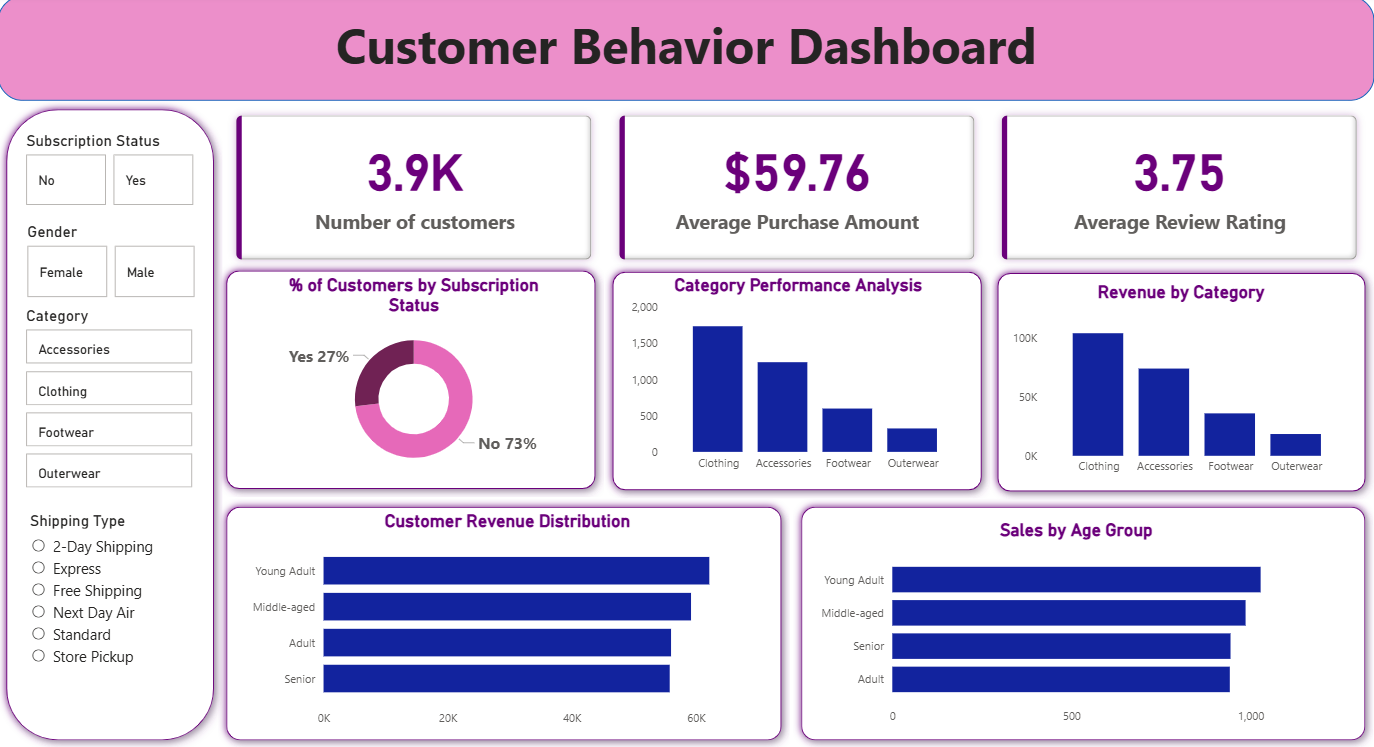

The page's visual inventory and layout, read from the dashboard file:
{"tool":"powerbi","page":{"name":"Page 1","canvas":[1500,820],"ordinal":0},"visuals":[{"type":"cardVisual","fields":{"Data":["customer.Number of customers","customer.Average Purchase Amount","customer.Average Review Rating"]},"box":[244.4,114.2,1255.9,189.8],"z":0},{"type":"shape","box":[0,0,1500.3,114.2],"z":1000},{"type":"textbox","box":[0,12.9,1500.3,101.3],"z":2000},{"type":"shape","box":[239.7,290.4,420.5,256.2],"z":3000},{"type":"donutChart","title":"% of Customers by Subscription Status","fields":{"Category":["customer.subscription_status"],"Y":["CountNonNull(customer.customer_id)"]},"box":[267.1,304.1,372.6,223.3],"z":4000},{"type":"shape","box":[660.3,291.8,420.5,256.2],"z":5000},{"type":"shape","box":[1080.8,293.2,419.2,256.2],"z":6000},{"type":"clusteredColumnChart","title":"Revenue by Category","fields":{"Y":["Sum(customer.purchase_amount)"],"Category":["customer.category"]},"box":[682.7,310.7,377.5,219.4],"z":7000},{"type":"clusteredColumnChart","title":"Sales by Category","fields":{"Y":["CountNonNull(customer.customer_id)"],"Category":["customer.category"]},"box":[1103.7,309.3,373.4,223.5],"z":8000},{"type":"shape","box":[0,114.2,244.4,705.9],"z":9000},{"type":"advancedSlicerVisual","title":"Subscription Status","fields":{"Values":["customer.subscription_status"]},"box":[26,146.6,193.2,86.3],"z":10000},{"type":"advancedSlicerVisual","fields":{"Values":["customer.gender"]},"box":[27.4,246.6,193.2,87.7],"z":11000},{"type":"advancedSlicerVisual","fields":{"Values":["customer.category"]},"box":[25.7,337.7,191.4,205.8],"z":12000},{"type":"listSlicer","fields":{"Values":["customer.shipping_type"]},"box":[30.1,561.6,190.4,223.3],"z":13000},{"type":"shape","box":[239.7,547.9,623.3,272.6],"z":14000},{"type":"clusteredBarChart","title":"Revenue by Age Group","fields":{"Category":["customer.age_group"],"Y":["Sum(customer.purchase_amount)"]},"box":[267.1,561.6,576.7,243.8],"z":15000},{"type":"shape","box":[867.1,547.9,632.9,272.6],"z":16000},{"type":"clusteredBarChart","title":"Sales by Age Group","fields":{"Category":["customer.age_group"],"Y":["CountNonNull(customer.purchase_amount)"]},"box":[887.7,571.2,576.7,232.9],"z":17000}]}

Visuals, with their boxes in screenshot pixels (x1, y1, x2, y2), scaled from the page's 1500x820 canvas onto the 1374x747 screenshot:
cardVisual - customer.Number of customers x customer.Average Purchase Amount: x1=224 y1=104 x2=1373 y2=277
shape: x1=0 y1=0 x2=1373 y2=104
textbox: x1=0 y1=12 x2=1373 y2=104
shape: x1=220 y1=265 x2=605 y2=498
"% of Customers by Subscription Status" donutChart: x1=245 y1=277 x2=586 y2=480
shape: x1=605 y1=266 x2=990 y2=499
shape: x1=990 y1=267 x2=1373 y2=500
"Revenue by Category" clusteredColumnChart: x1=625 y1=283 x2=971 y2=483
"Sales by Category" clusteredColumnChart: x1=1011 y1=282 x2=1353 y2=485
shape: x1=0 y1=104 x2=224 y2=746
"Subscription Status" advancedSlicerVisual: x1=24 y1=134 x2=201 y2=212
advancedSlicerVisual - customer.gender: x1=25 y1=225 x2=202 y2=305
advancedSlicerVisual - customer.category: x1=24 y1=308 x2=199 y2=495
listSlicer - customer.shipping_type: x1=28 y1=512 x2=202 y2=715
shape: x1=220 y1=499 x2=791 y2=746
"Revenue by Age Group" clusteredBarChart: x1=245 y1=512 x2=773 y2=734
shape: x1=794 y1=499 x2=1373 y2=746
"Sales by Age Group" clusteredBarChart: x1=813 y1=520 x2=1341 y2=733
